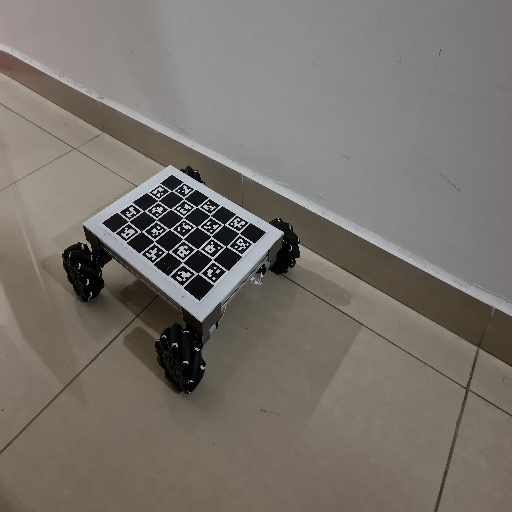Omniwheel: (61, 164, 303, 396)
